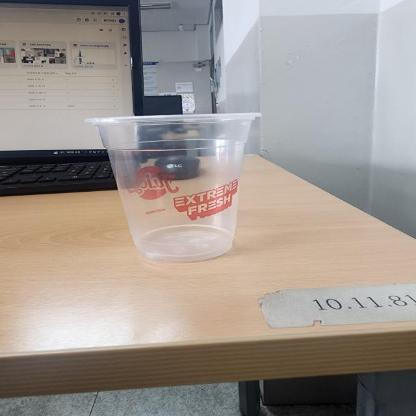Plastic Cup: (86, 111, 264, 263)
